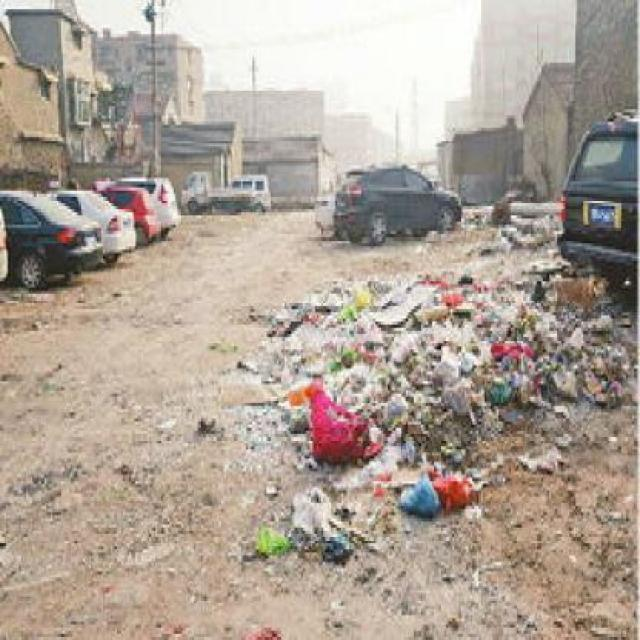garbage: (285, 306, 558, 453), (343, 268, 556, 306), (263, 494, 356, 562), (562, 322, 626, 413), (369, 465, 490, 512)
